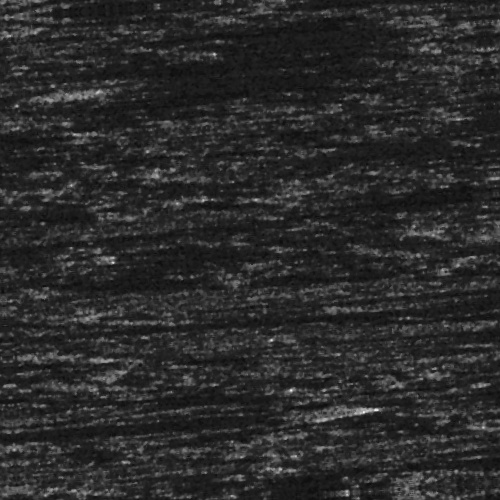object: (305, 226, 500, 255), (362, 432, 500, 451), (307, 478, 442, 495), (242, 408, 357, 423)
shadow: (96, 226, 429, 255), (206, 469, 500, 488), (34, 408, 300, 423), (275, 432, 451, 451), (286, 478, 374, 495), (442, 459, 500, 464)
